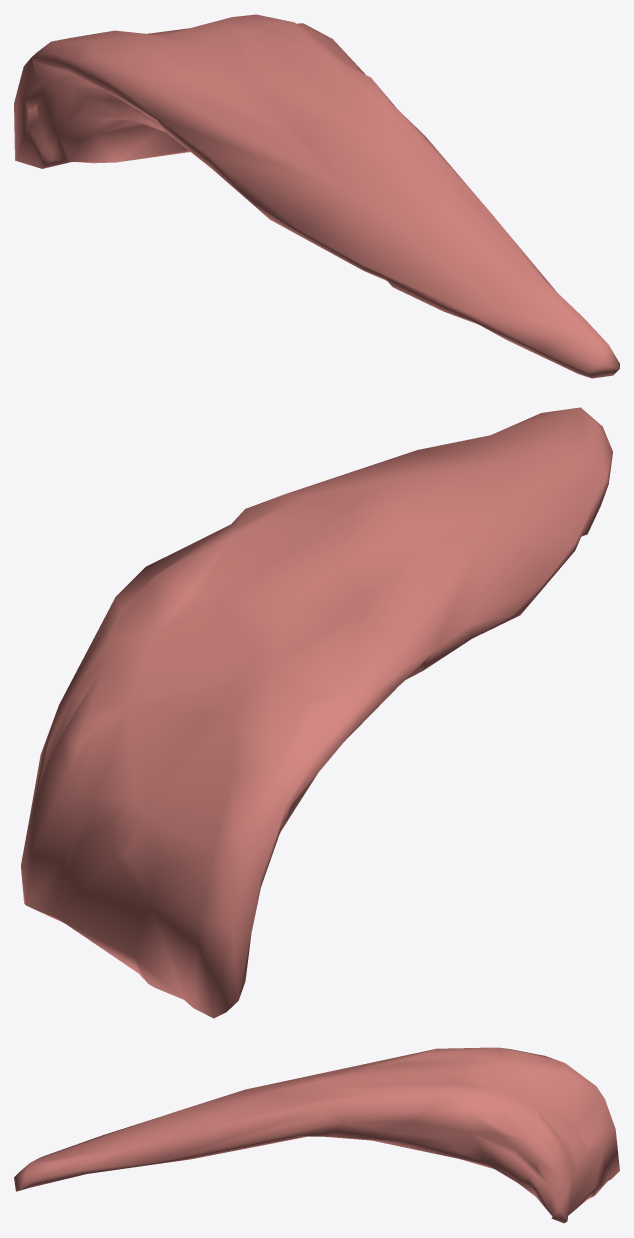
3 renders of one model, top to bottom at view 1: azimuth 30°, elevation 25°; view 2: azimuth 150°, elevation 25°; view 3: azimuth 270°, elevation 25°, orthographic. The views are drawn at different scales.
Visible parts, largest first — view 1: ZA_32492ee0d1c32f95; view 2: ZA_32492ee0d1c32f95; view 3: ZA_32492ee0d1c32f95.
Part boxes in pixels (x1,y1,x2,y2): ZA_32492ee0d1c32f95: [14, 14, 619, 378]; ZA_32492ee0d1c32f95: [21, 407, 612, 1018]; ZA_32492ee0d1c32f95: [14, 1047, 619, 1223].
Size of the model in its own units: 0.0112 by 0.0101 by 0.0401.
